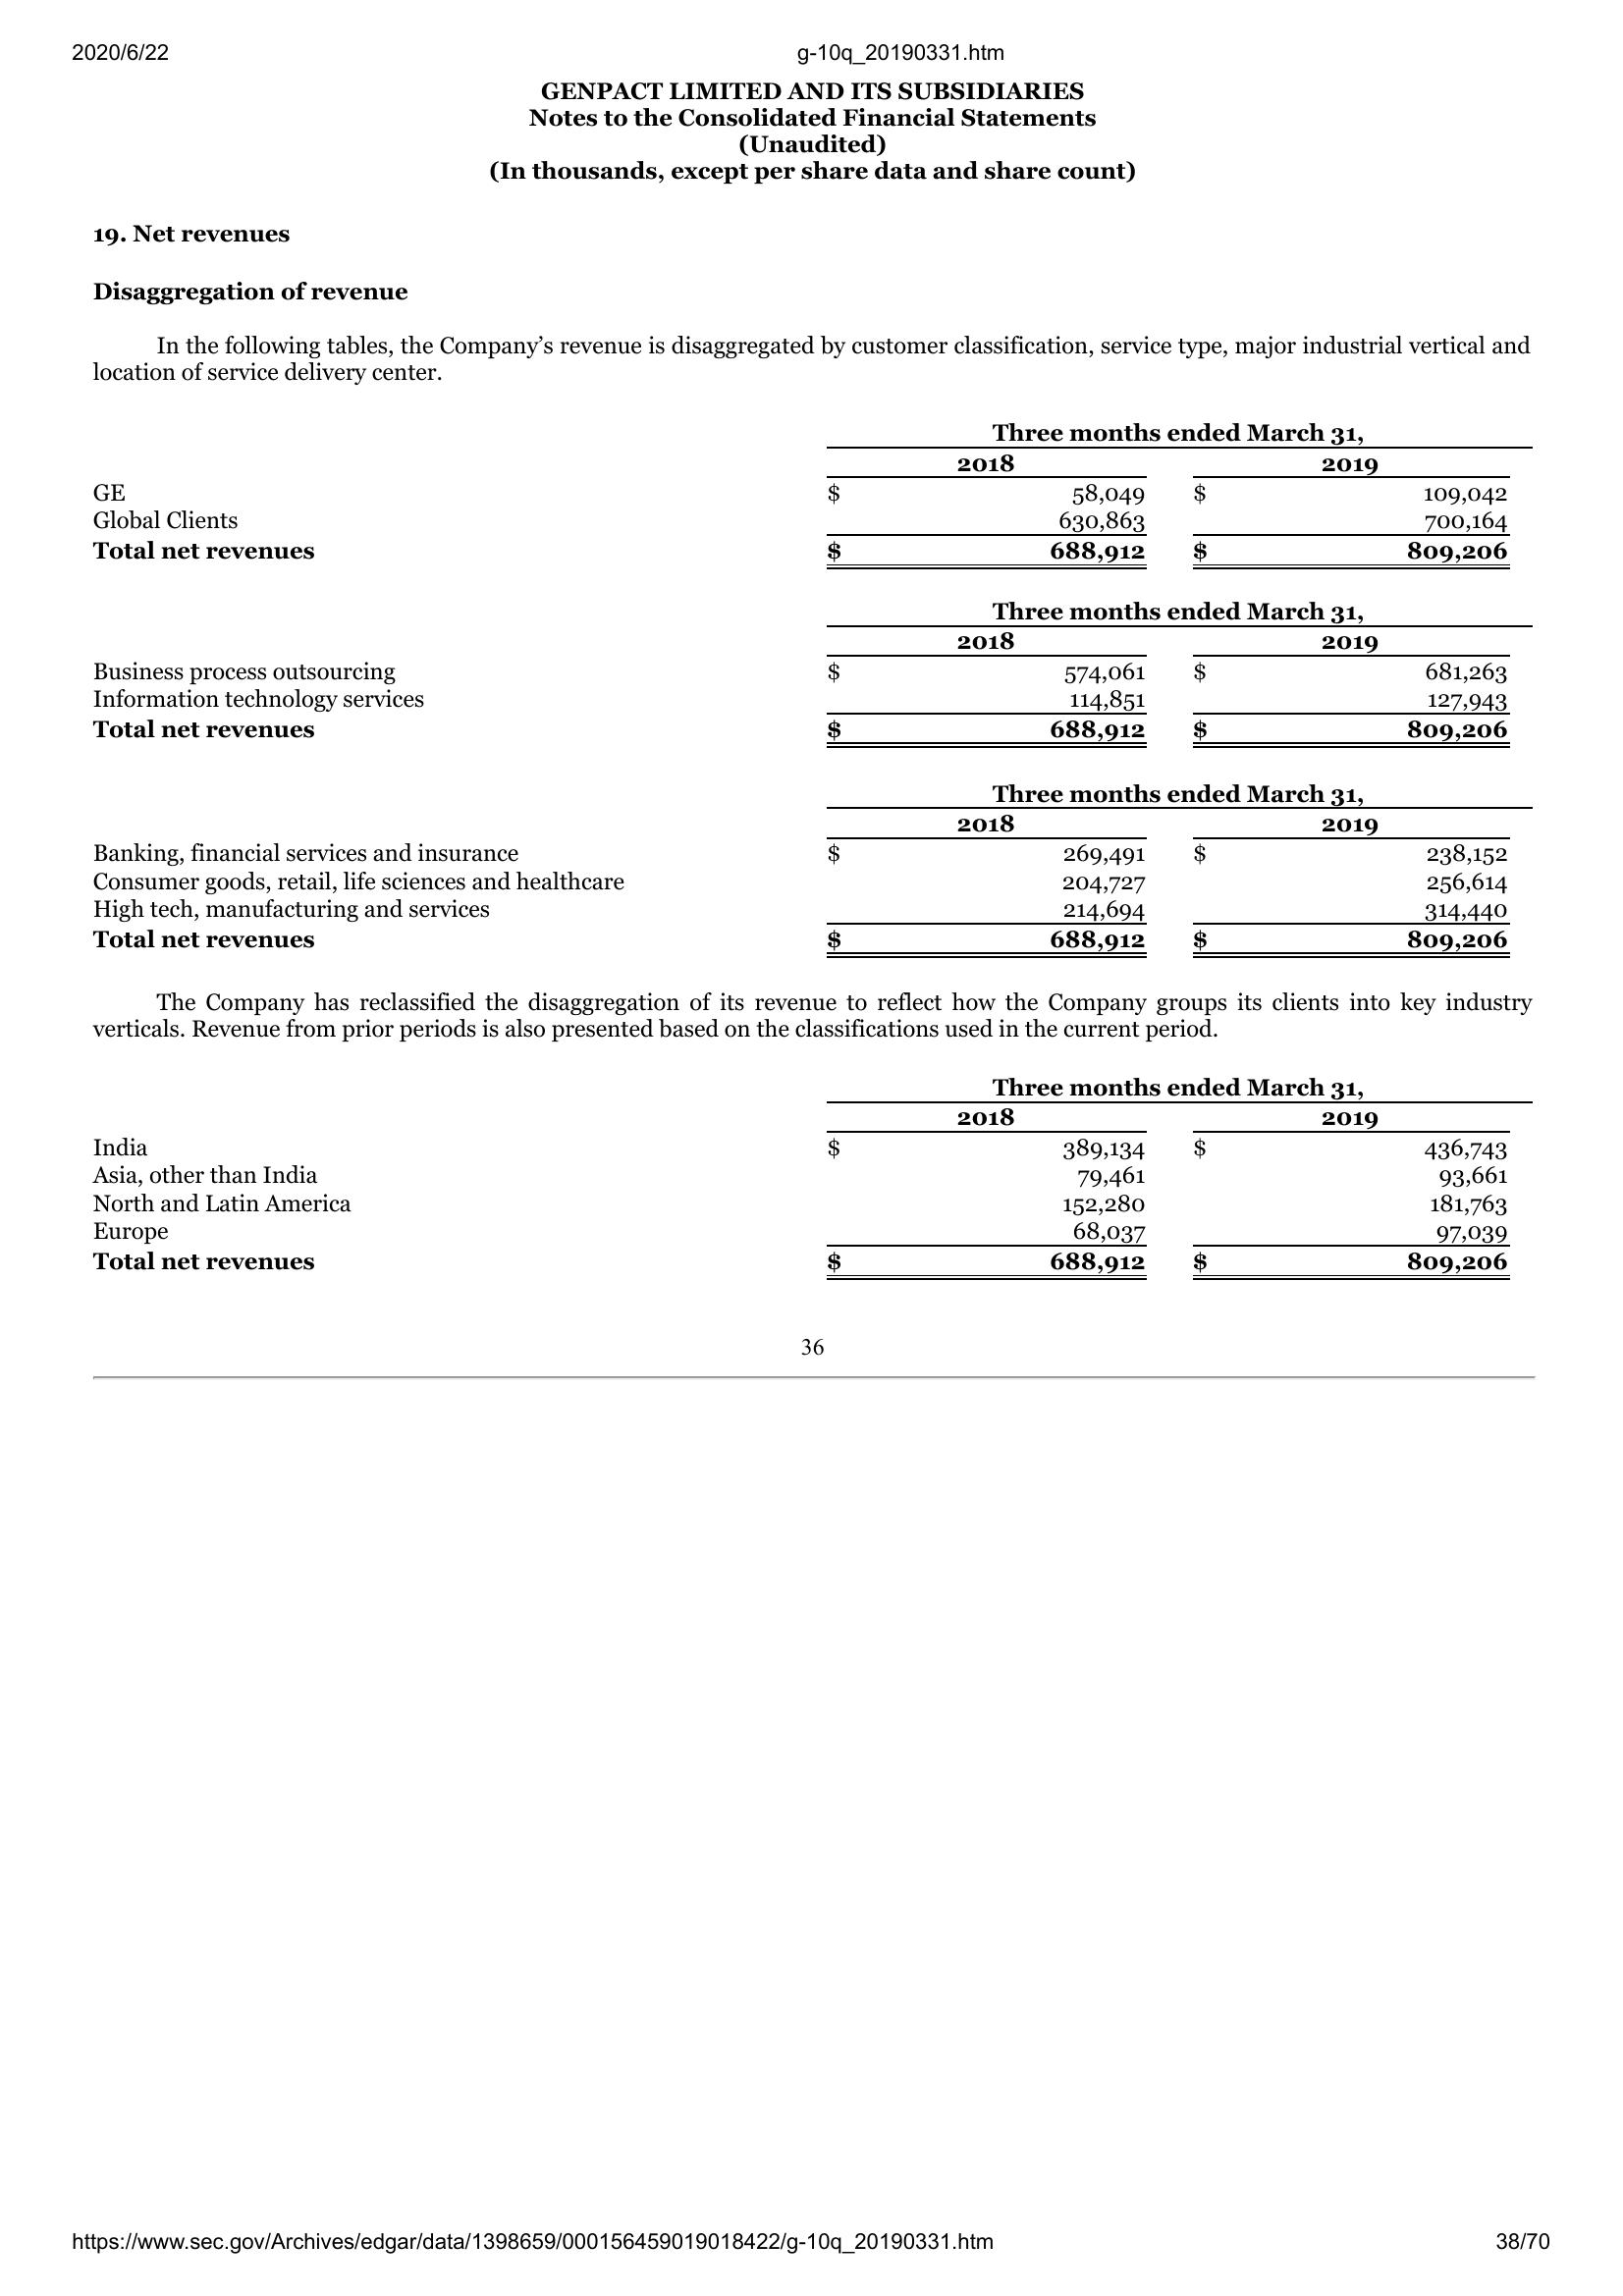table: (83, 420, 1540, 967), (88, 1067, 1535, 1283)
